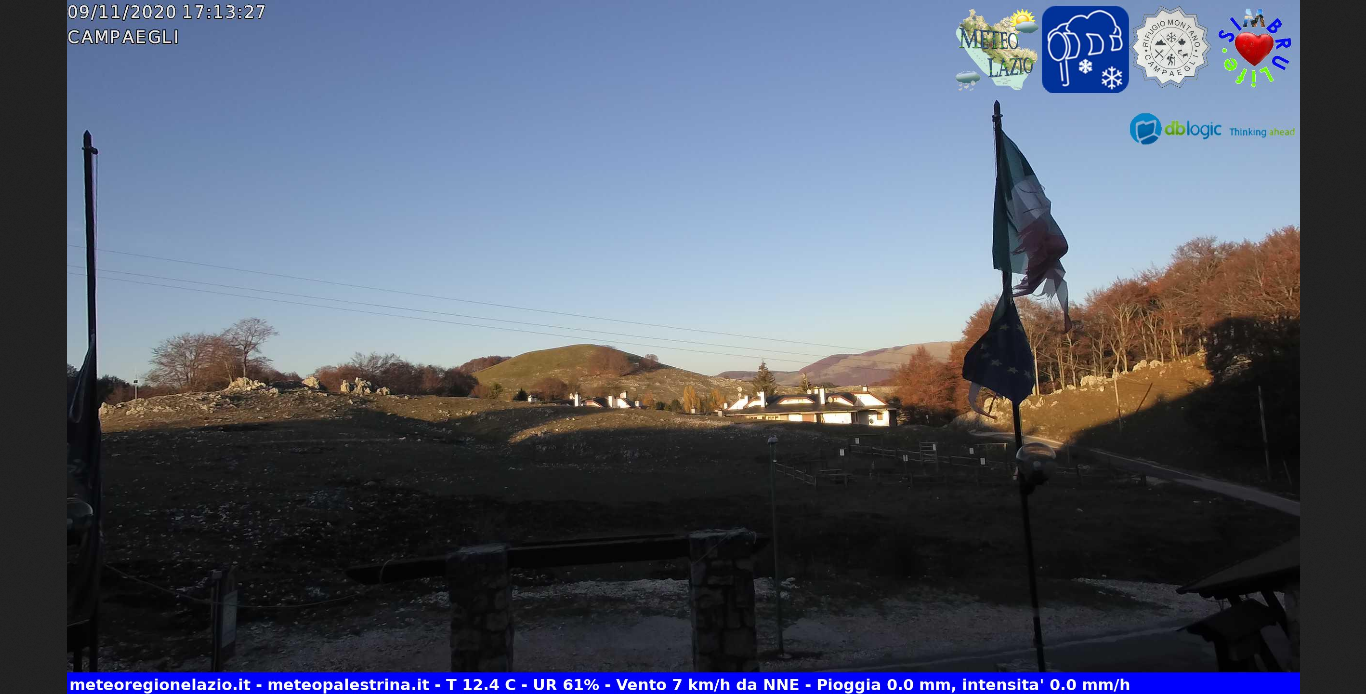no: (983, 91, 1085, 325), (962, 281, 1037, 428)
